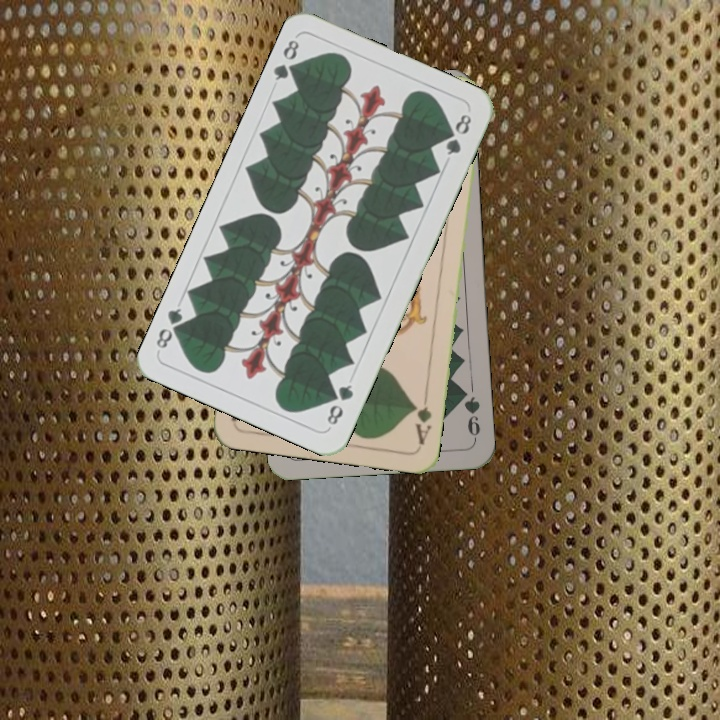G8: (270, 35, 304, 83), (323, 380, 356, 428)
G9: (456, 384, 483, 443)
GA: (409, 389, 434, 447)
